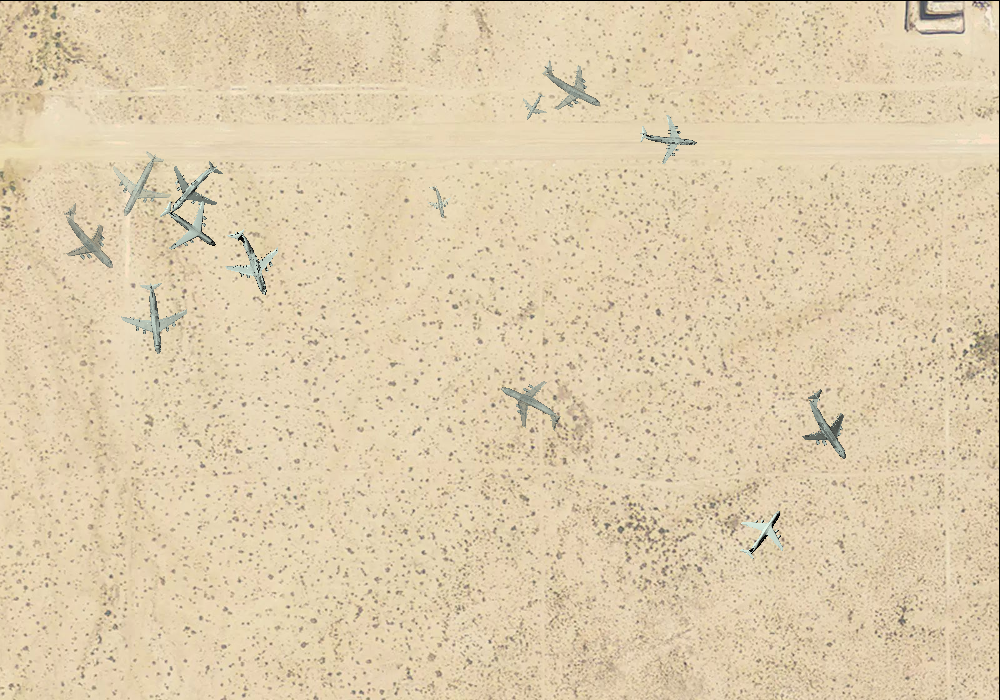plane: (41, 189, 137, 286), (782, 377, 875, 473), (95, 139, 184, 230), (149, 143, 238, 232), (527, 43, 616, 128), (145, 183, 232, 269), (208, 218, 292, 306), (487, 363, 574, 447), (725, 495, 801, 572), (117, 278, 191, 357), (637, 108, 699, 168), (514, 86, 554, 126), (420, 182, 455, 221)
